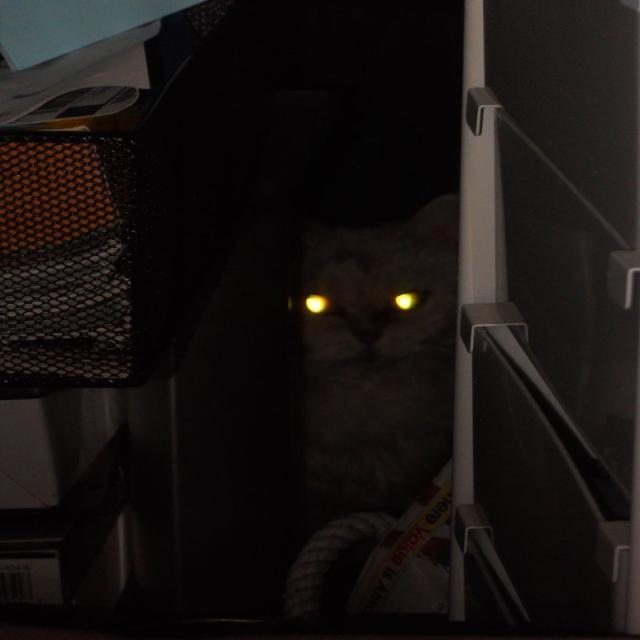Cat: (269, 180, 481, 503)
